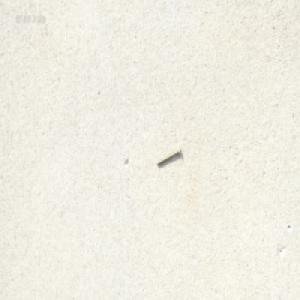Bolt: (156, 146, 181, 167)
